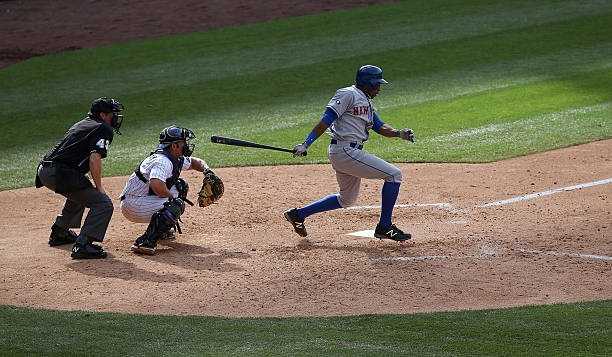bita: (212, 134, 309, 157)
